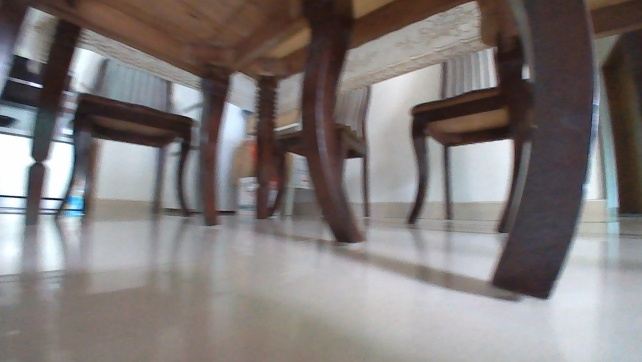dining_table1: (0, 0, 605, 303)
